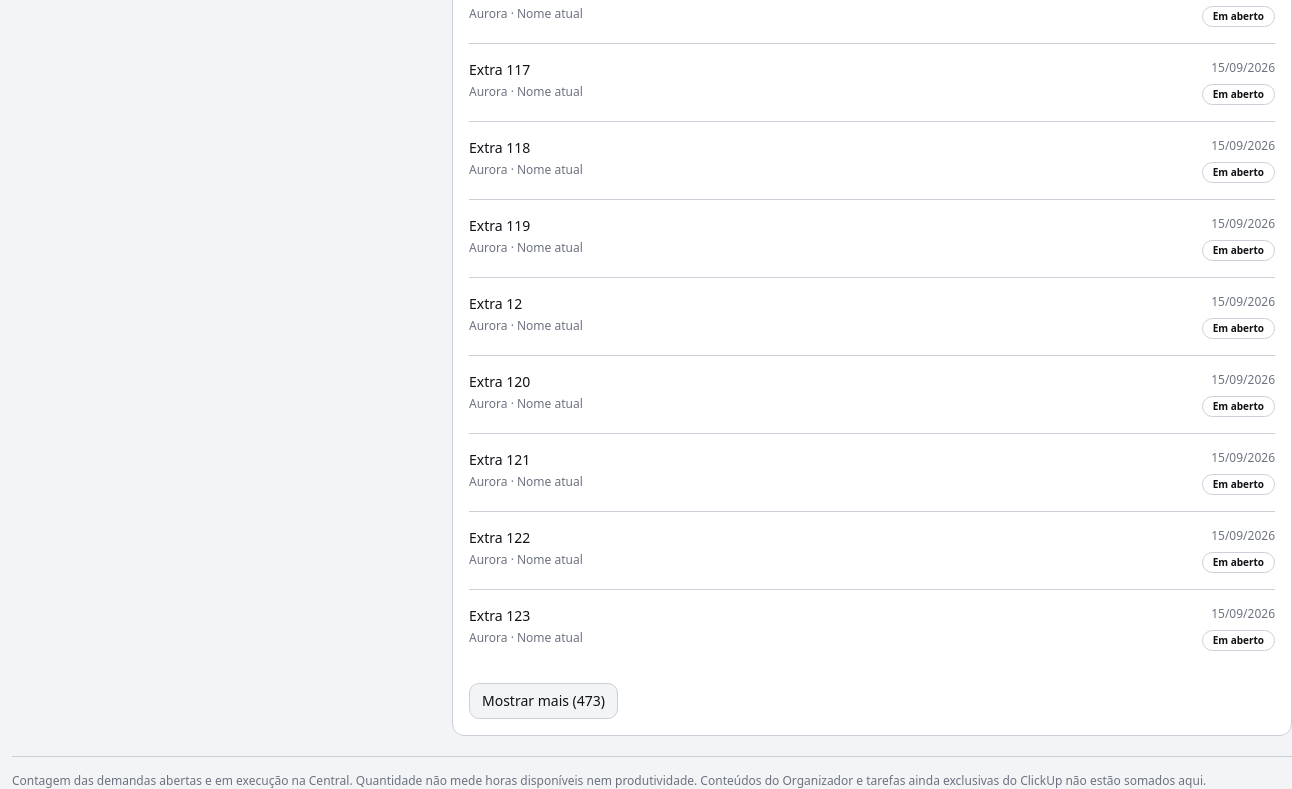
lê todas as páginas e expande a fila sem perder registros
(page scrolled)
Click the button "Mostrar mais (473)" at (544, 701), box [469,683,618,719]
(page scrolled)
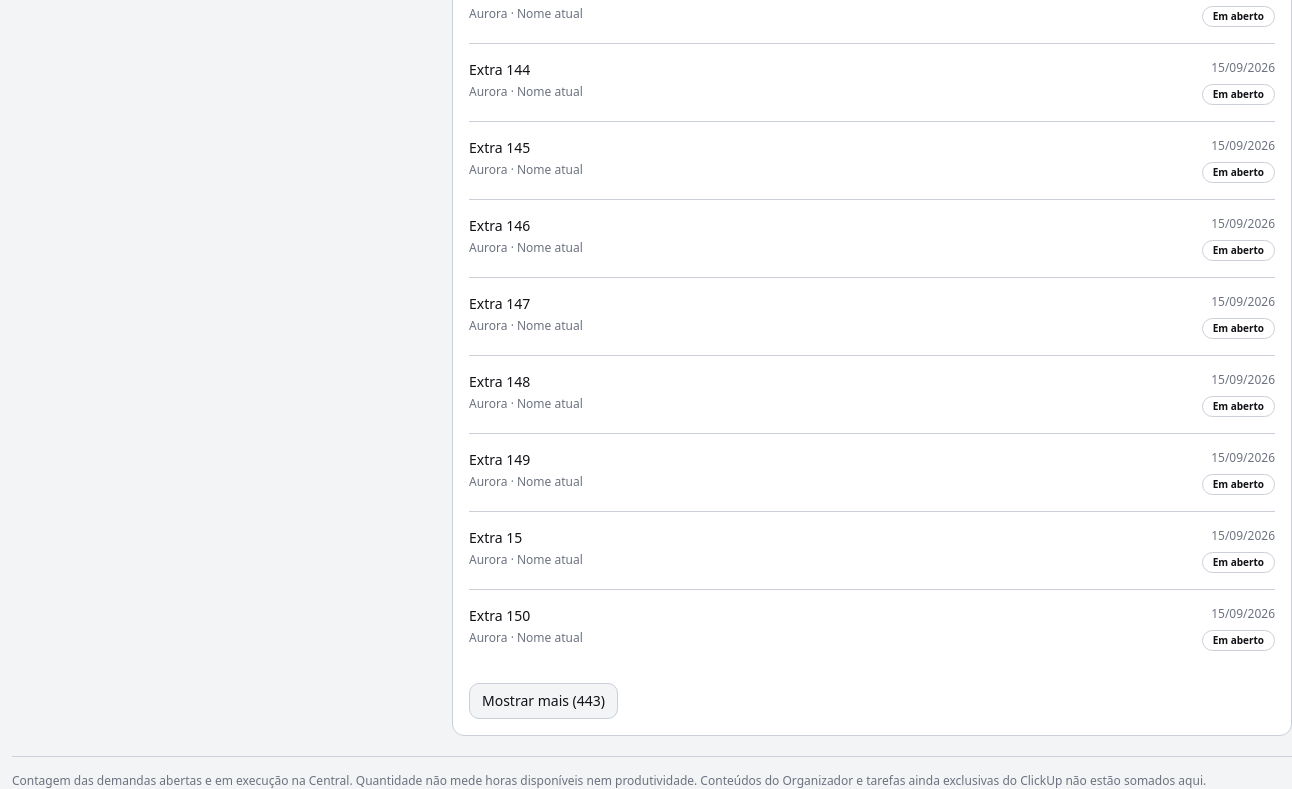
Expected: the button "Mostrar mais (443)" is shown, [469,683,618,719]
